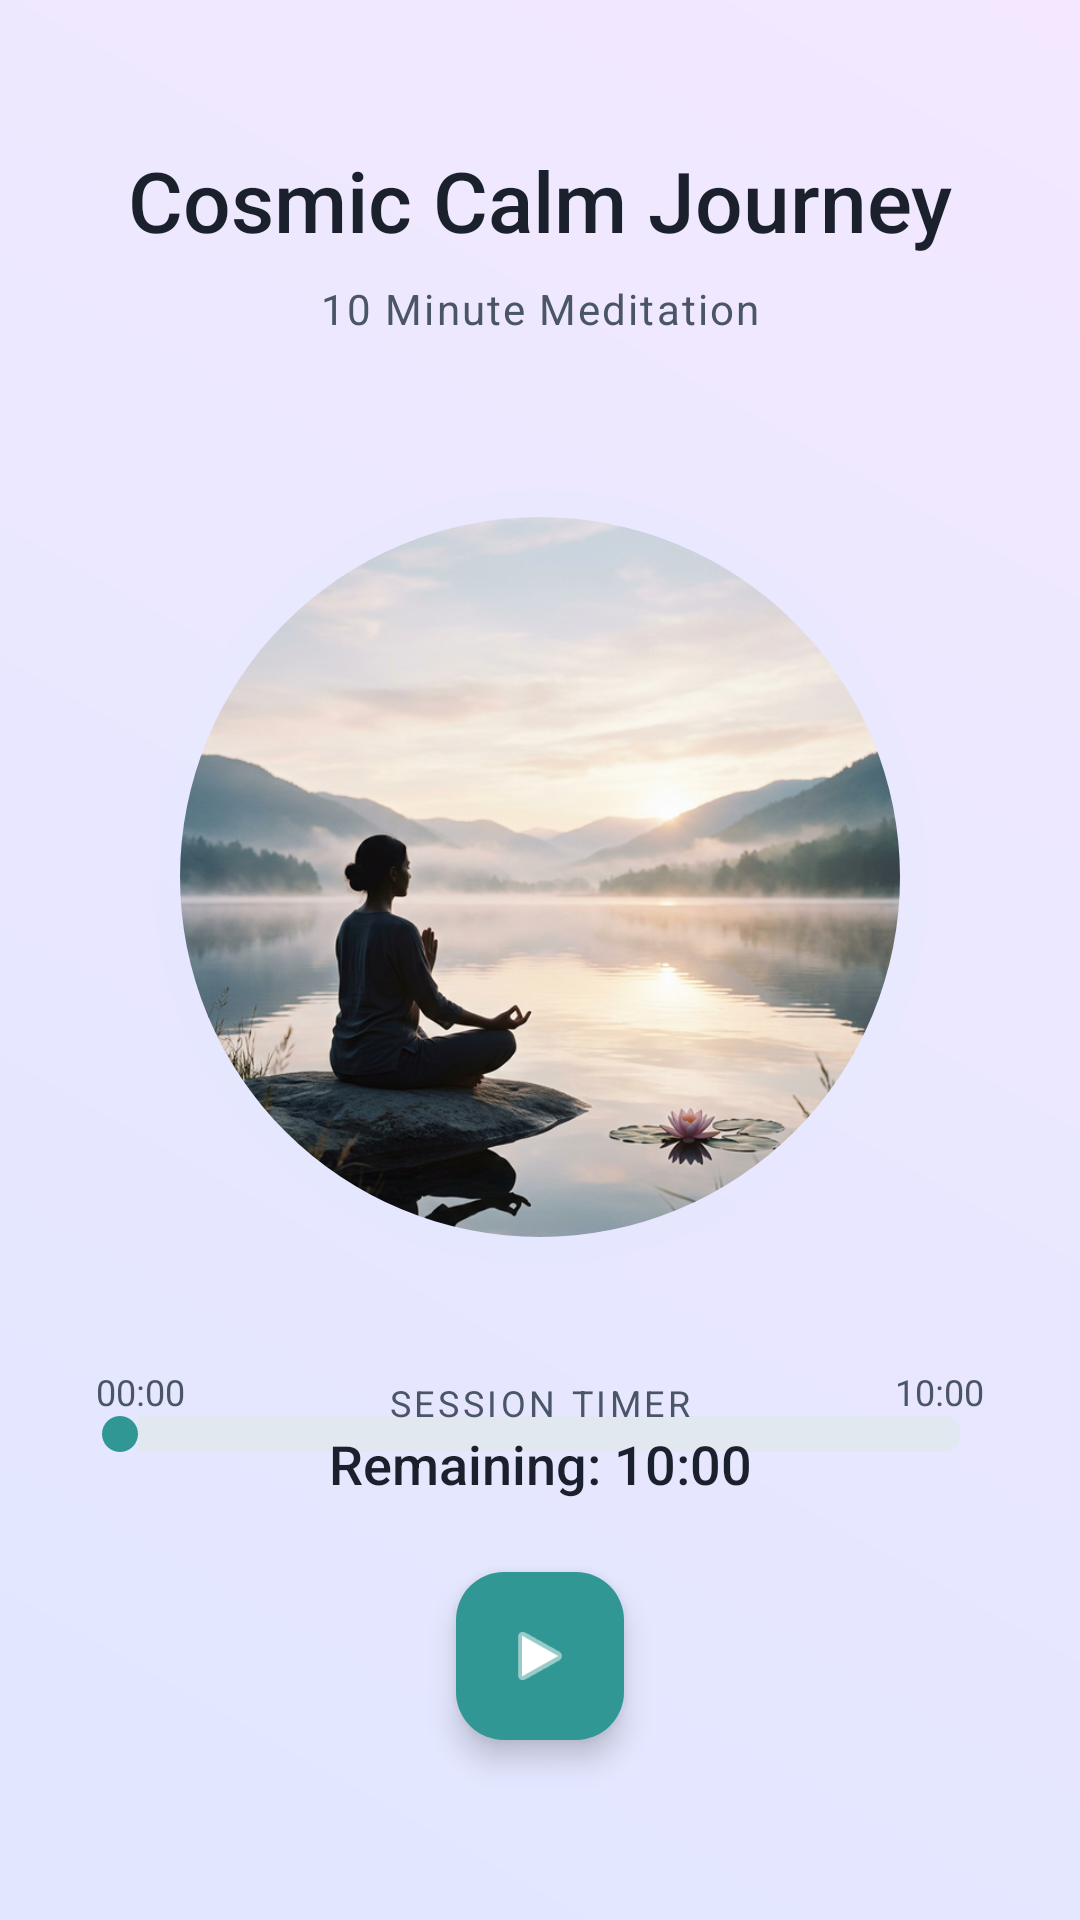

Named icons in this screenshot (1080 x 1920) and their bounding boxes, (x1, y1, x2, y2):
Play or Pause meditation: (456, 1572, 624, 1740)
